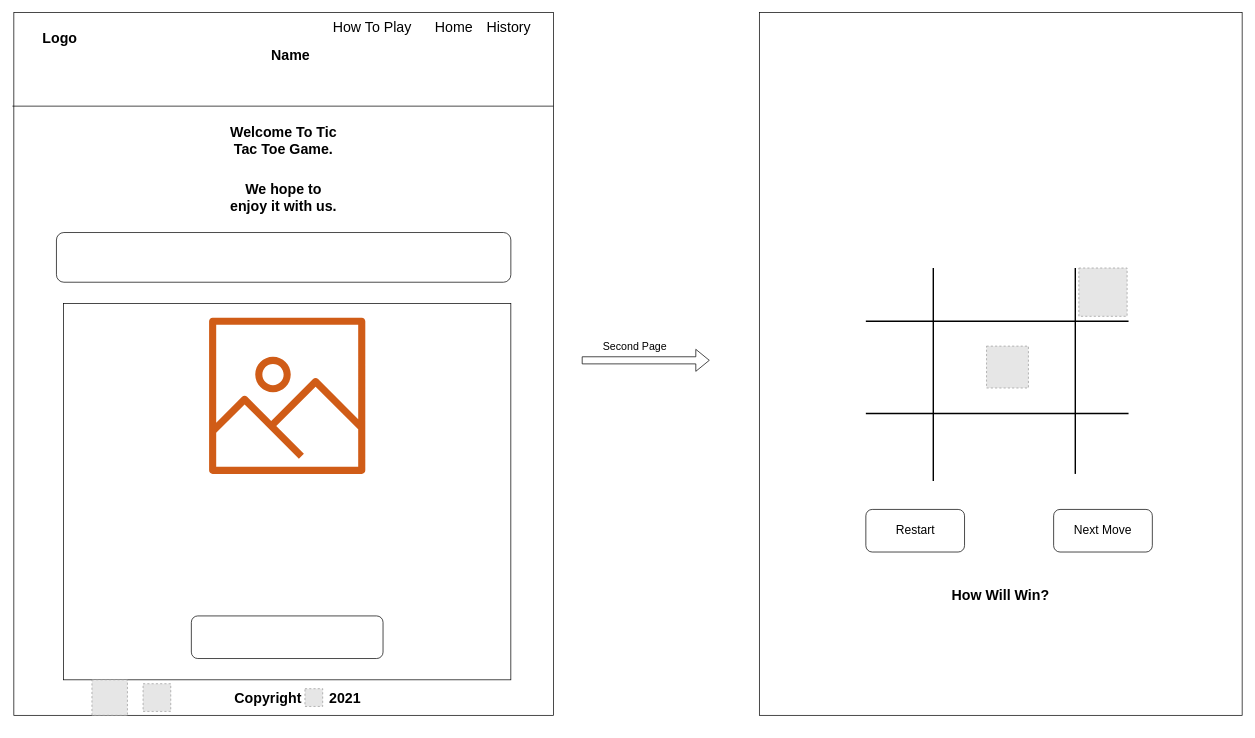
Image size: 1255x738. Some labels were removed from this diagram. Grey dashed boxes stand in for pictures. Each missing label, with the box of its shape:
Let's Play: (191, 615, 383, 659)
Some Paragraph What is Tic Tac Toe game?: (56, 232, 511, 282)
